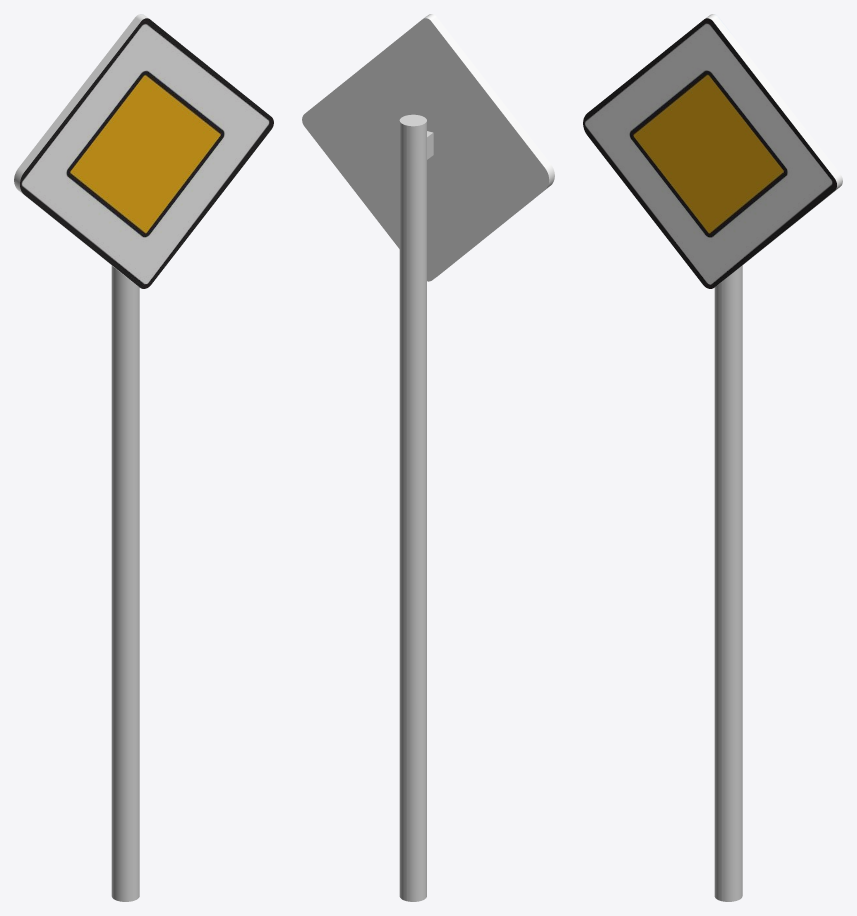
File: hlznacka.fbx
3 renders of one model, left to right at view 1: azimuth 30°, elevation 25°; view 2: azimuth 150°, elevation 25°; view 3: azimuth 330°, elevation 25°, orthographic. The views are drawn at different scales.
Parts seen in each view (by area): view 1: Cube; view 2: Cube; view 3: Cube.
Boxes of the visible parts, x1,y1,x2,y2 form: Cube: [14, 14, 273, 901]; Cube: [302, 14, 554, 901]; Cube: [583, 14, 842, 901].
Size of the model in its own units: 93.19 by 313 by 17.07.
Materials: 2 (1 with a texture image).
